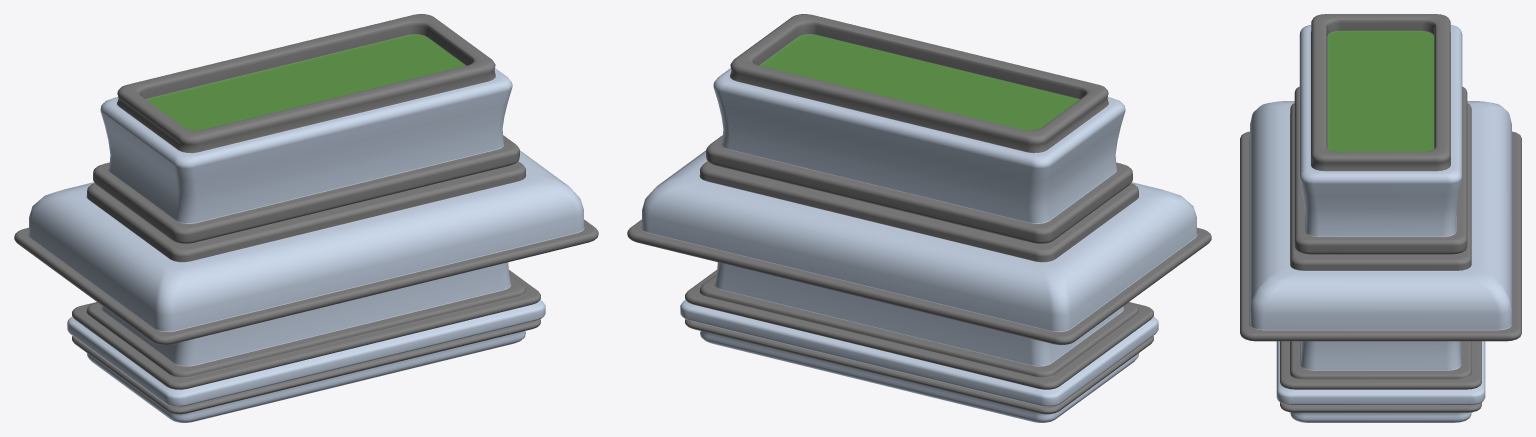
The model's file is SM_Building_05_Part_02.fbx.
The picture shows the model from 3 angles, left to right: view 1: azimuth 30°, elevation 25°; view 2: azimuth 150°, elevation 25°; view 3: azimuth 270°, elevation 25°; orthographic projection. The views are drawn at different scales.
Visible parts, largest first — view 1: SM_Building_05_Part_02; view 2: SM_Building_05_Part_02; view 3: SM_Building_05_Part_02.
Part boxes in pixels (<box>): SM_Building_05_Part_02: <box>14,14,598,422</box>; SM_Building_05_Part_02: <box>627,14,1211,422</box>; SM_Building_05_Part_02: <box>1240,14,1521,422</box>.
Bounding box in the file's own units: 5107 × 3011 × 2968.
